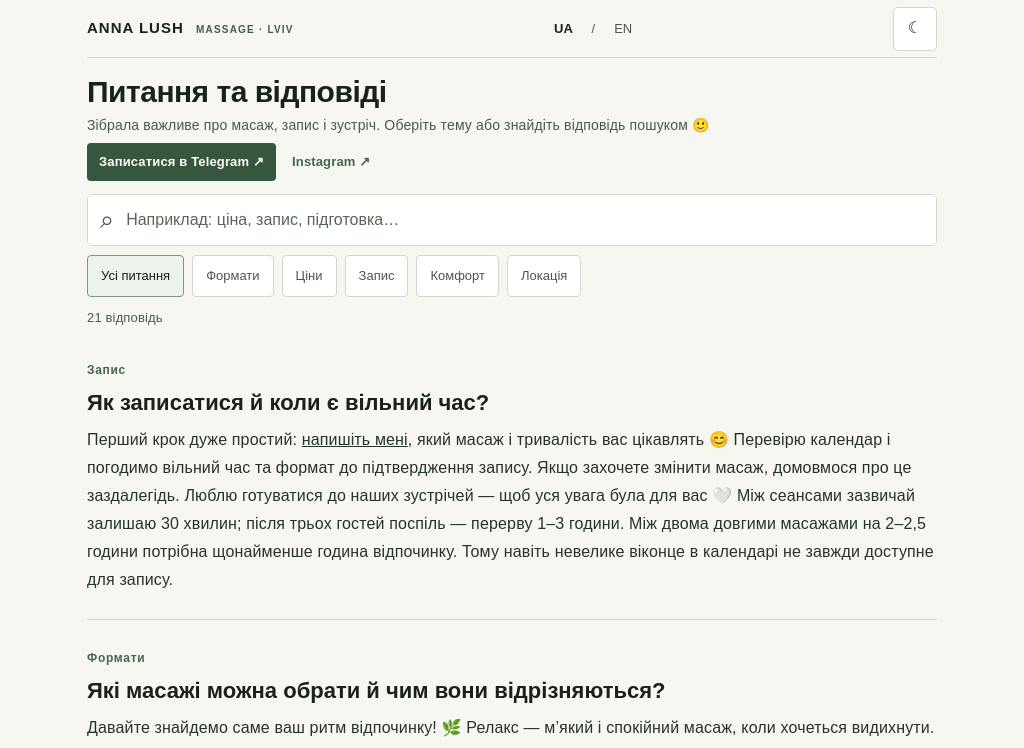
Scenario: public massage FAQ › formats live price data in the selected language
Step 1. Click the button with aria-label "English" → (623, 28), box [601, 6, 645, 50]
(page scrolled)
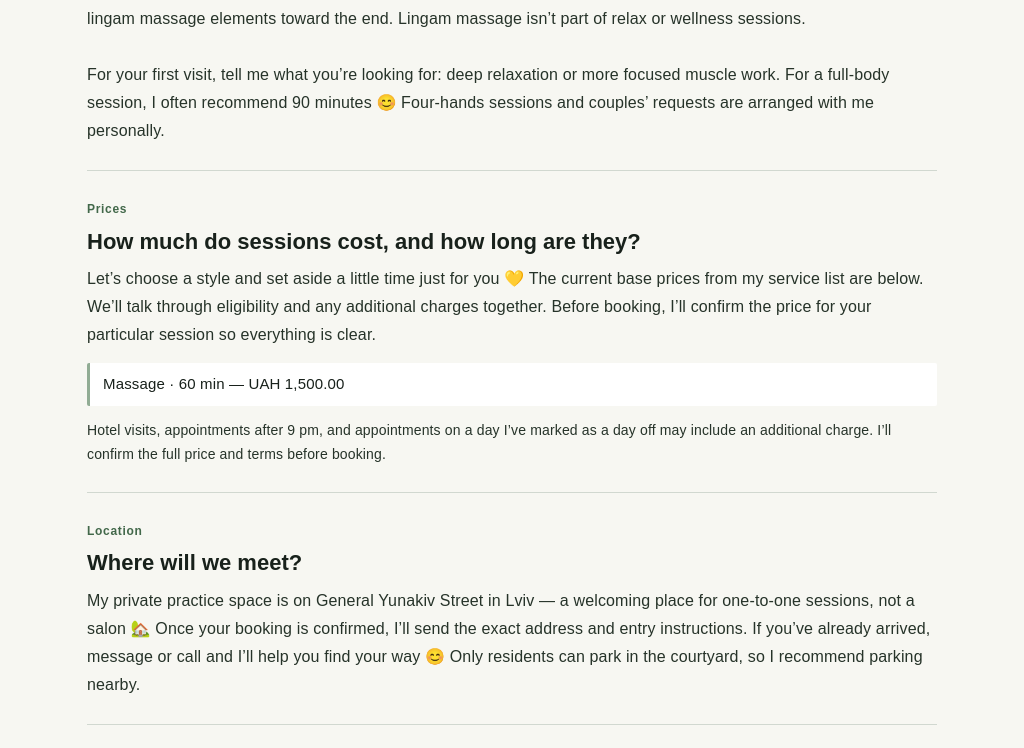
Expected: the number of list items is 1, [87, 364, 937, 406]
